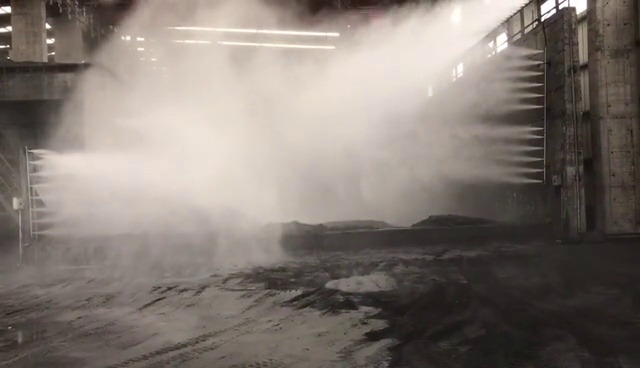dust: (57, 14, 508, 262)
